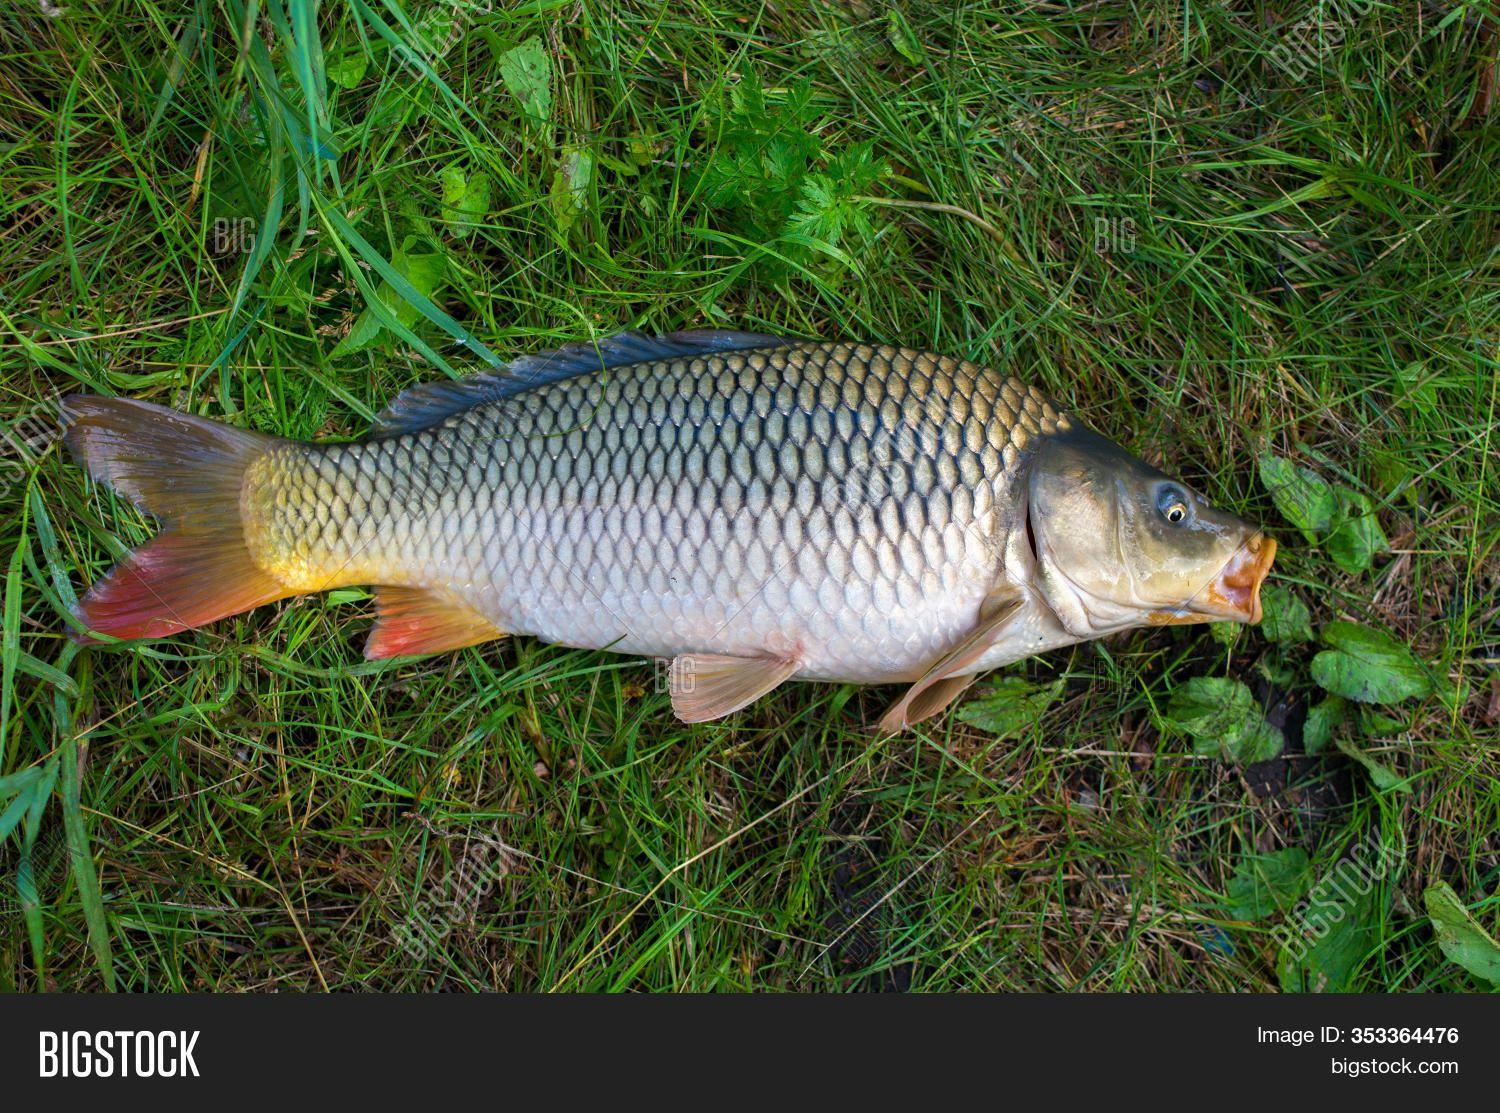Grass Carp: (68, 310, 1287, 751)
